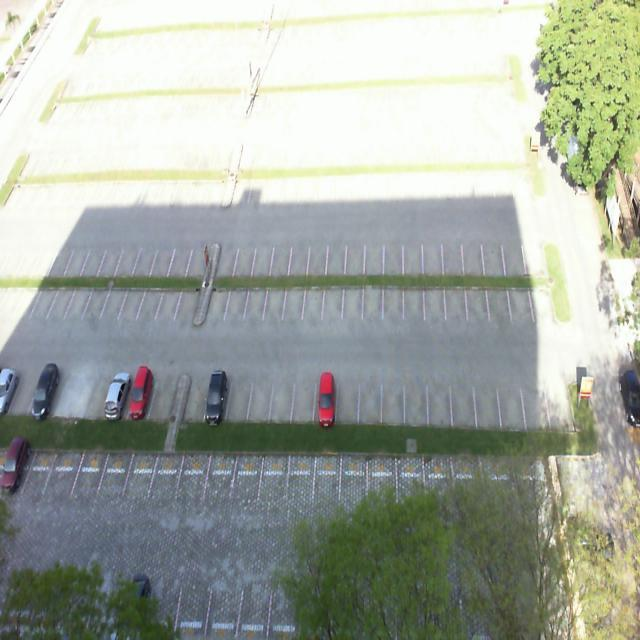space-empty: (94, 445, 132, 502), (123, 442, 158, 502), (71, 446, 106, 501), (148, 444, 182, 500), (43, 445, 78, 499), (231, 451, 264, 504), (545, 370, 576, 426), (499, 373, 528, 432), (204, 448, 238, 498), (175, 445, 208, 496), (312, 451, 342, 507), (223, 370, 254, 424), (21, 446, 55, 494), (259, 448, 290, 500), (523, 371, 550, 428), (64, 367, 93, 420), (476, 372, 502, 429), (117, 271, 146, 322), (222, 272, 249, 326), (83, 371, 112, 421), (288, 449, 314, 504), (452, 374, 479, 426), (136, 267, 162, 320), (428, 375, 454, 428), (268, 373, 294, 424), (154, 274, 180, 324), (246, 372, 272, 422), (262, 270, 286, 324), (530, 270, 557, 318), (148, 374, 175, 422), (359, 371, 382, 426), (174, 272, 198, 324), (382, 371, 405, 424), (101, 270, 125, 320), (241, 275, 265, 325), (335, 373, 359, 423), (290, 372, 313, 424), (405, 374, 428, 426), (486, 273, 511, 320), (483, 227, 507, 275), (181, 373, 206, 418), (443, 226, 466, 273), (205, 273, 225, 327), (130, 236, 156, 276), (113, 238, 140, 276), (509, 276, 532, 320), (303, 276, 324, 324), (155, 165, 178, 208), (525, 229, 548, 272), (444, 277, 467, 320), (467, 275, 488, 322), (148, 237, 172, 278), (188, 164, 211, 206), (363, 276, 384, 322), (282, 276, 302, 324), (167, 238, 192, 276), (505, 227, 526, 272), (322, 277, 343, 322), (425, 229, 445, 276), (188, 239, 212, 278), (139, 165, 162, 205), (511, 156, 534, 196), (287, 234, 310, 274), (404, 226, 424, 272), (404, 274, 424, 320), (426, 276, 446, 322), (172, 165, 193, 208), (382, 231, 404, 272), (229, 238, 252, 277), (204, 166, 226, 206), (464, 228, 484, 272), (231, 164, 252, 205), (213, 239, 236, 276), (384, 276, 402, 322), (307, 234, 328, 273), (345, 231, 364, 274), (268, 236, 290, 272), (251, 235, 272, 272), (345, 275, 362, 320), (324, 235, 344, 273), (364, 235, 383, 273), (458, 162, 478, 198), (478, 158, 496, 198), (299, 166, 317, 205), (494, 160, 514, 195), (267, 166, 284, 207), (283, 164, 300, 205), (250, 166, 268, 204), (368, 162, 386, 200), (422, 163, 440, 198), (333, 165, 350, 202), (388, 162, 404, 200), (403, 163, 420, 198), (440, 162, 458, 195), (316, 166, 332, 200), (351, 164, 367, 198)
space-occupied: (106, 371, 134, 422), (127, 370, 154, 420), (312, 372, 336, 428), (203, 370, 229, 420)
